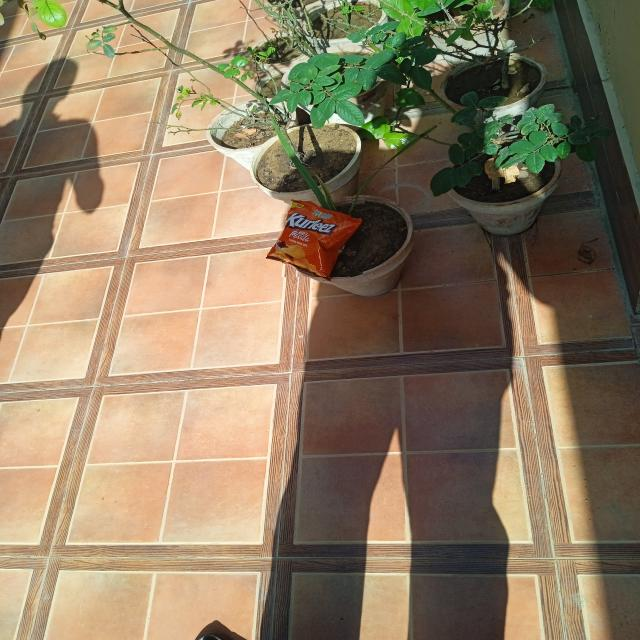Plastic: (267, 196, 365, 277)
